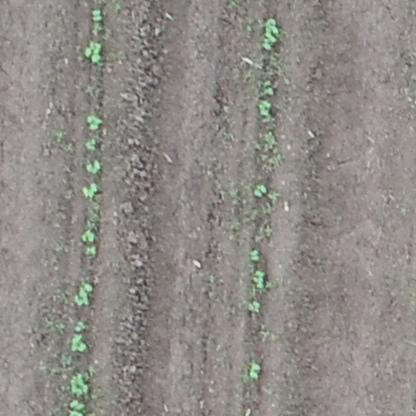vc: (260, 18, 283, 55), (81, 38, 112, 65), (72, 280, 94, 309), (66, 374, 88, 396), (251, 181, 270, 202), (245, 360, 263, 382), (82, 178, 100, 199), (258, 100, 275, 122), (84, 159, 105, 176), (253, 269, 268, 292), (70, 335, 89, 353), (83, 116, 106, 130), (247, 299, 261, 314), (83, 138, 98, 151), (247, 250, 262, 263), (71, 399, 87, 410), (74, 318, 87, 331), (83, 228, 94, 243), (91, 9, 102, 23), (83, 247, 97, 257)
